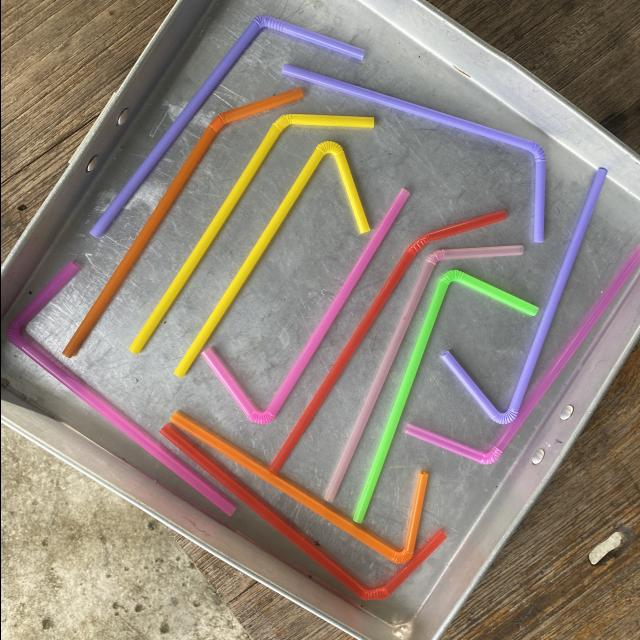plastik: (62, 88, 302, 357), (271, 210, 506, 471), (89, 15, 364, 237), (129, 114, 373, 353), (7, 262, 235, 515), (404, 244, 640, 464), (324, 246, 521, 502), (159, 426, 445, 600), (201, 190, 409, 424), (281, 64, 545, 243), (352, 270, 537, 522), (174, 141, 368, 377), (441, 169, 605, 424), (169, 413, 427, 564), (248, 190, 408, 423)
